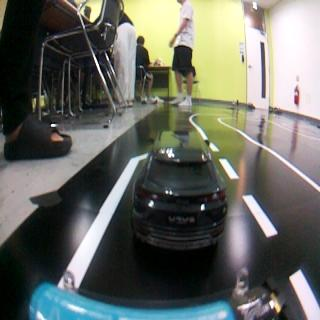car: (133, 129, 227, 242)
